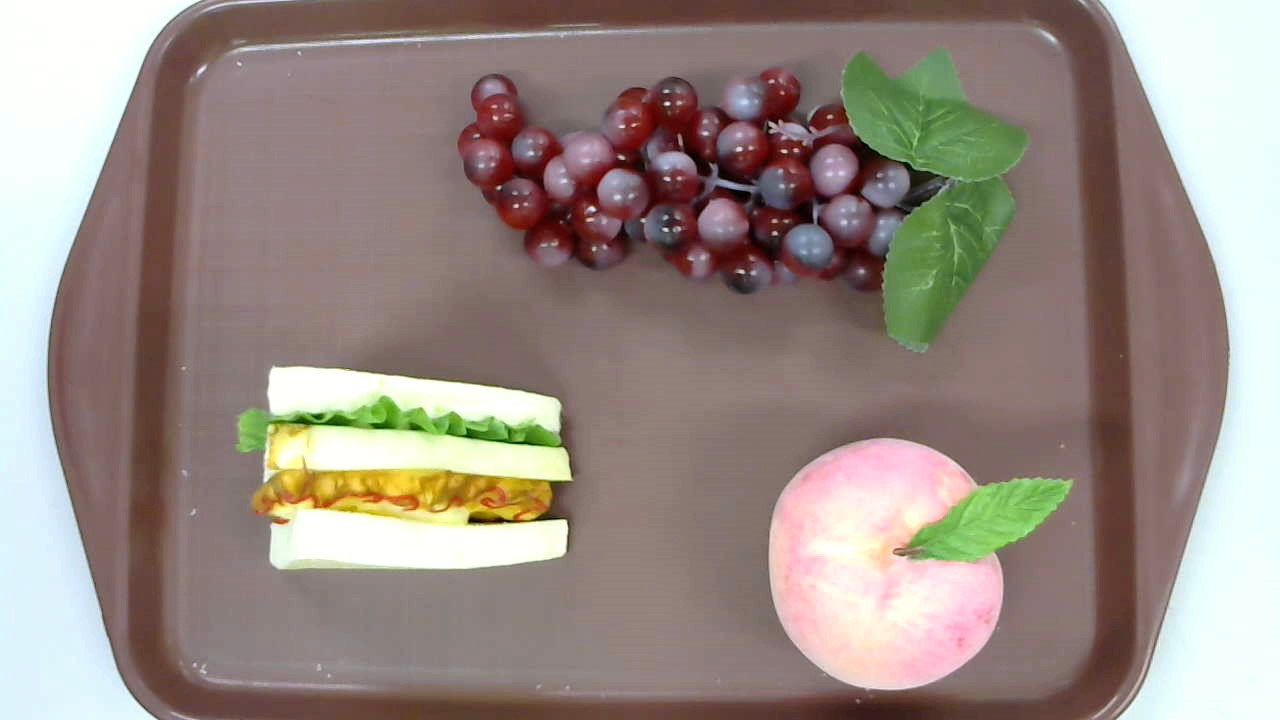grape: (454, 48, 1033, 354)
peach: (767, 436, 1073, 691)
sandwich: (234, 365, 574, 573)
